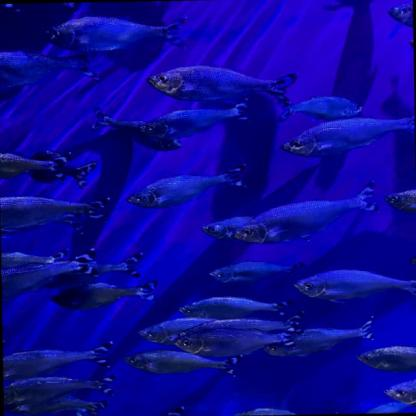fish: (230, 180, 378, 246), (146, 62, 301, 108), (278, 109, 414, 160), (39, 13, 191, 58), (126, 162, 250, 210), (166, 310, 307, 352), (1, 246, 98, 303), (140, 97, 254, 142), (262, 314, 377, 358), (292, 266, 416, 305), (2, 340, 116, 381), (0, 191, 119, 230), (92, 105, 181, 154), (172, 324, 300, 358), (0, 48, 101, 90), (3, 374, 120, 407), (51, 278, 160, 313), (122, 348, 243, 379), (136, 313, 223, 346), (176, 294, 295, 318), (207, 259, 305, 288), (0, 148, 75, 184), (276, 93, 362, 124), (200, 214, 260, 245), (356, 345, 416, 375), (1, 248, 71, 271), (88, 251, 146, 277), (221, 406, 339, 416), (383, 376, 415, 410), (66, 160, 101, 190), (384, 187, 416, 219), (69, 408, 186, 416), (384, 0, 413, 31), (408, 36, 413, 58)
